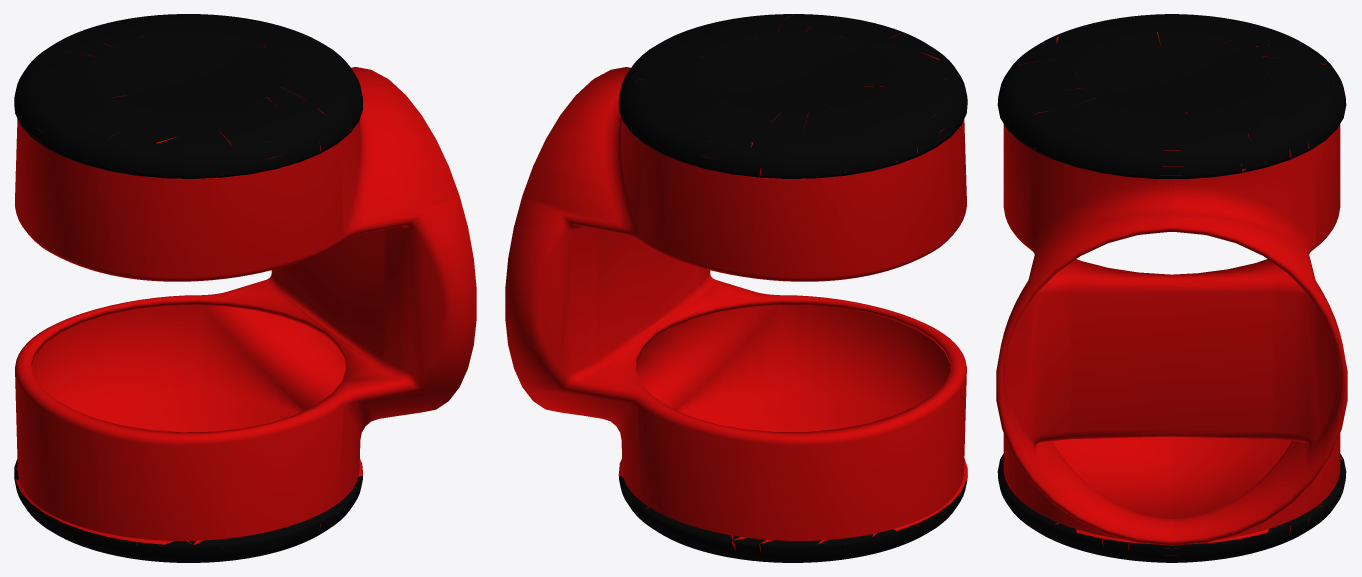
The picture shows the model from 3 angles, left to right: view 1: azimuth 30°, elevation 25°; view 2: azimuth 150°, elevation 25°; view 3: azimuth 270°, elevation 25°; orthographic projection.
Parts seen in each view (by area): view 1: E1; view 2: E1; view 3: E1.
Part boxes in pixels (left/top/right/bottom): E1: left=14, top=14, right=476, bottom=562; E1: left=505, top=14, right=967, bottom=562; E1: left=996, top=14, right=1347, bottom=562.
Size of the model in its own units: 0.1608 by 0.1394 by 0.1893.
